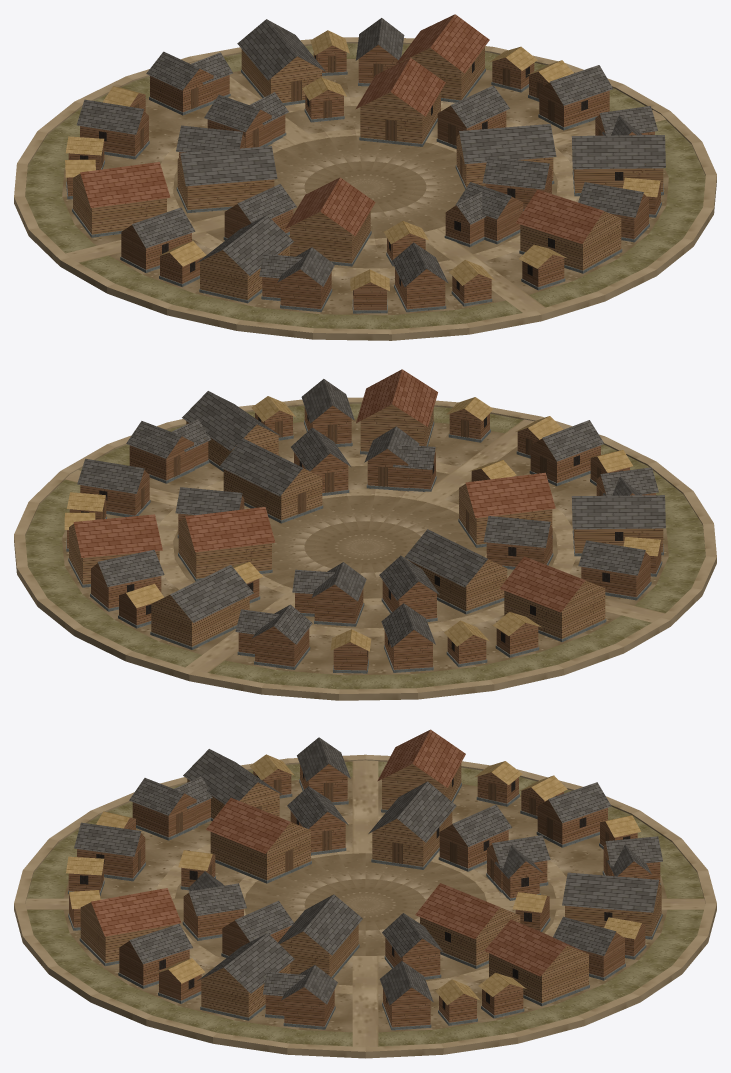
Rendered from ae_sand_village_large_lod1.glb.
3 renders of one model, top to bottom at view 1: azimuth 30°, elevation 25°; view 2: azimuth 150°, elevation 25°; view 3: azimuth 270°, elevation 25°, orthographic.
Parts seen in each view (by area): view 1: ae_sand_village_large_lod1; view 2: ae_sand_village_large_lod1; view 3: ae_sand_village_large_lod1.
Boxes of the visible parts, x1,y1,x2,y2 form: ae_sand_village_large_lod1: (14,14,716,340); ae_sand_village_large_lod1: (14,369,716,700); ae_sand_village_large_lod1: (14,729,716,1058).
Size of the model in its own units: 1.9 by 0.1715 by 1.9.
1 material, 1 textured.
